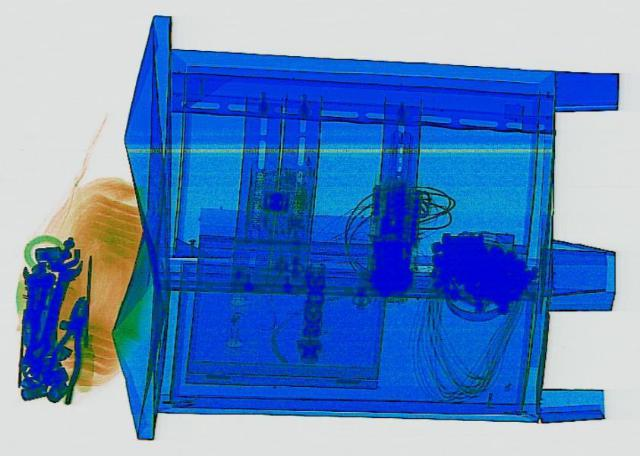Pliers: (38, 293, 96, 404)
